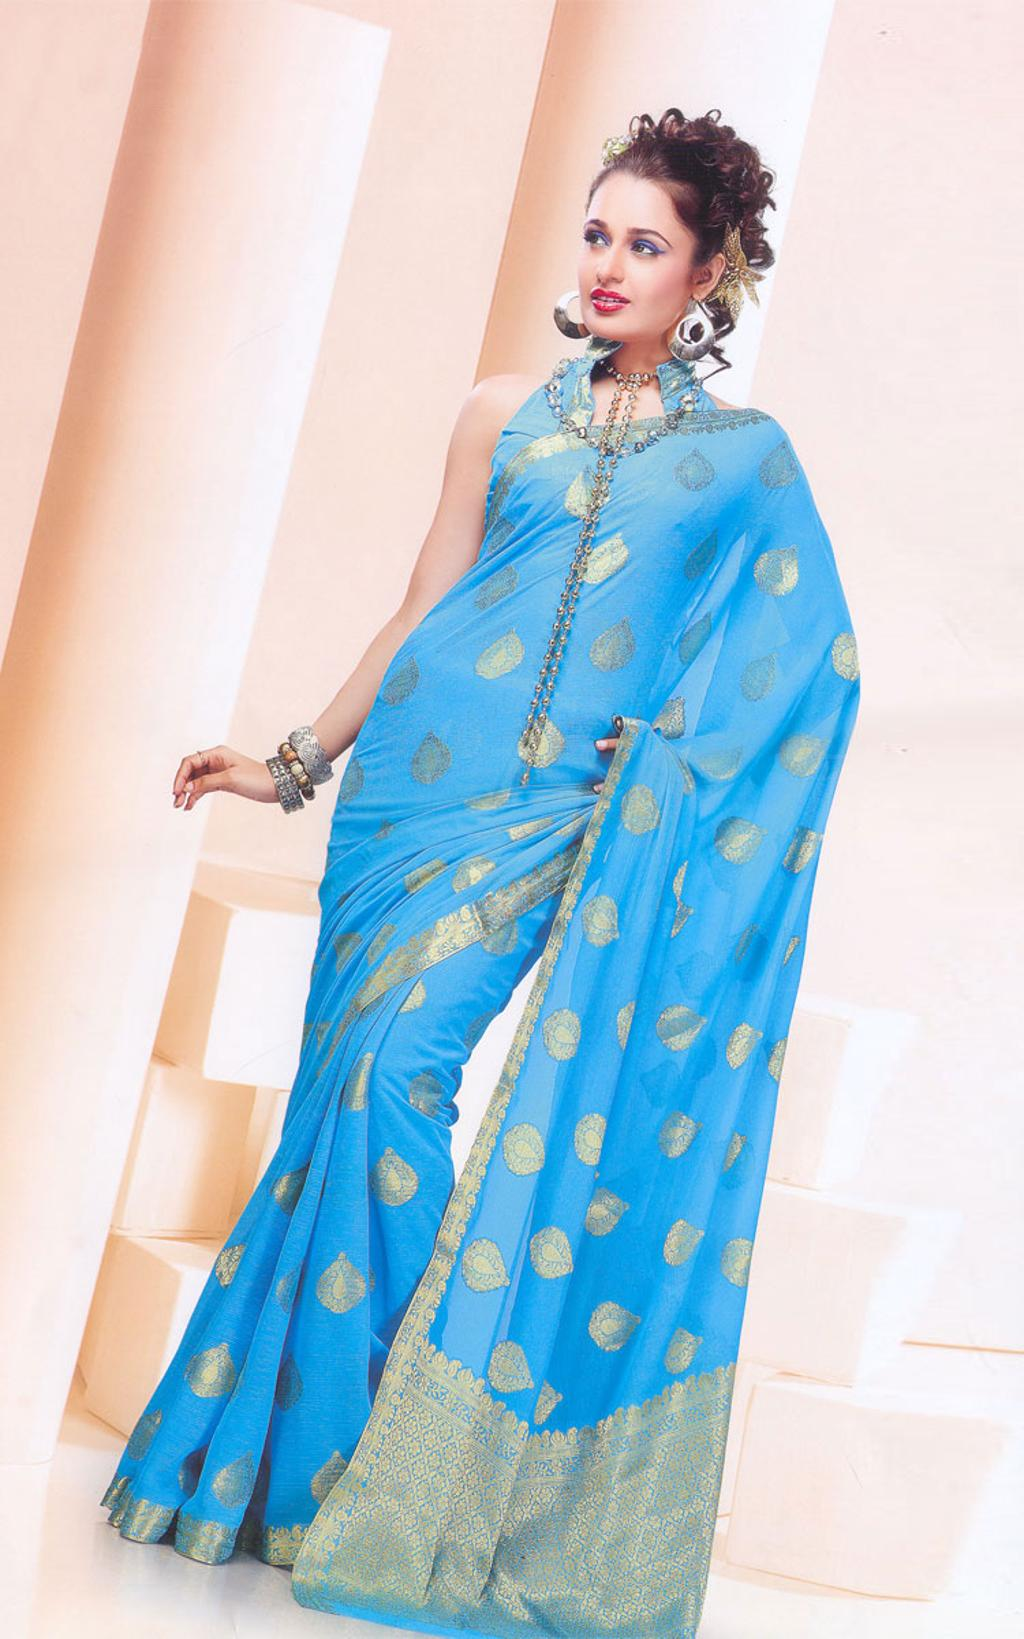face: (582, 176, 691, 333)
